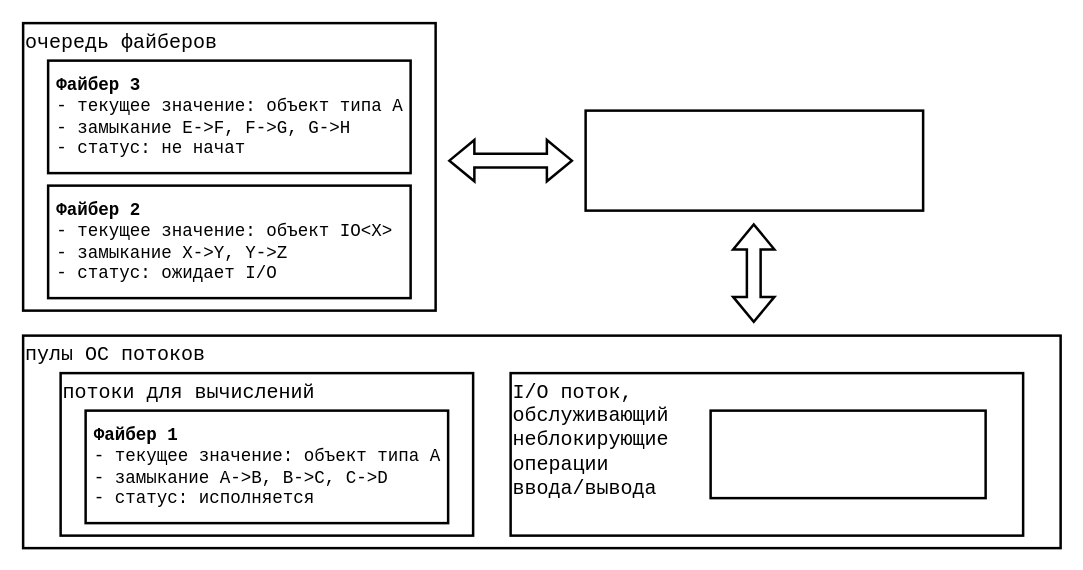
The diagram is 1083 pixels wide and 570 high, and some of its shapes have lost their labels. The shapes that lost their labels are listed below. From the top down, each one's centre as x and y in pixels, then its label:
At [754,160]: "планировщик".
At [847,454]: "Операция ввода/вывода IO<X> для файбера 2".
